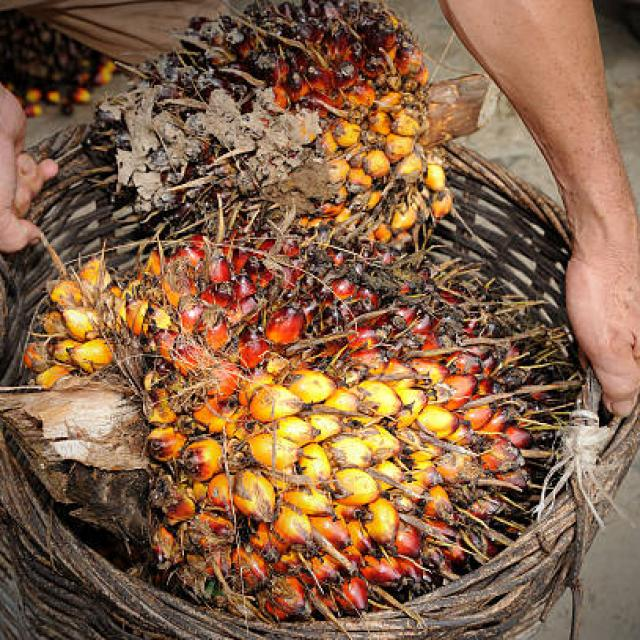FFB: (59, 245, 553, 611), (113, 1, 457, 250)
